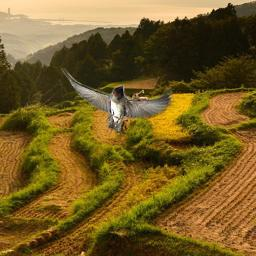Swallow: (61, 68, 174, 136)
